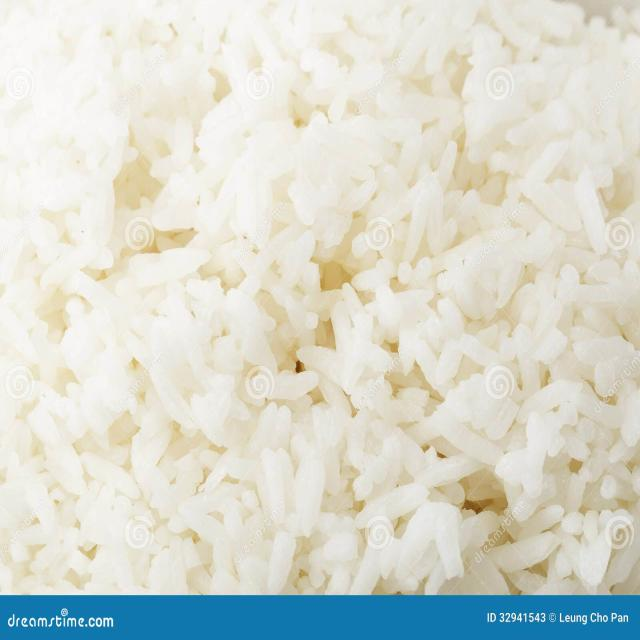arroz: (7, 12, 631, 587)
